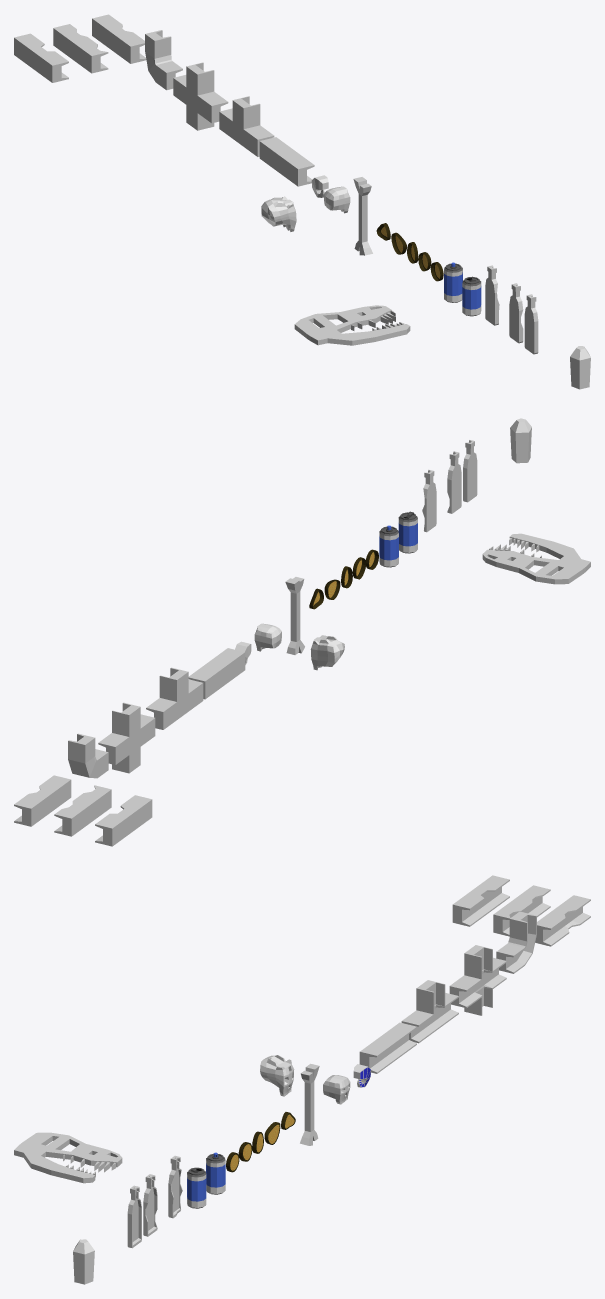
File: undergroundprops.fbx
3 renders of one model, top to bottom at view 1: azimuth 30°, elevation 25°; view 2: azimuth 150°, elevation 25°; view 3: azimuth 330°, elevation 25°, orthographic. The views are drawn at different scales.
Visible parts, largest first — view 1: Plane, Cube.007, Cube.006, Cube.005, Cube.009, Cube.011, Cube.010, Cube.008, Cube.012, Cube.003, Cylinder.007, Cube (+5 smaller); view 2: Plane, Cube.007, Cube.006, Cube.009, Cube.011, Cube.010, Cube.005, Cube.008, Cube.003, Cube.012, Cylinder.007, Cube (+5 smaller); view 3: Plane, Cube.007, Cube.006, Cube.011, Cube.008, Cube.005, Cube.009, Cube.010, Cube.003, Cube.012, Cylinder.007, Cube (+5 smaller).
Part boxes in pixels (<box>): Plane: <box>294,305,410,345</box>; Cube.007: <box>173,62,228,130</box>; Cube.006: <box>219,96,274,156</box>; Cube.005: <box>259,137,314,186</box>; Cube.009: <box>92,14,146,63</box>; Cube.011: <box>14,33,68,82</box>; Cube.010: <box>53,24,108,73</box>; Cube.008: <box>145,30,182,90</box>; Cube.012: <box>261,196,296,231</box>; Cube.003: <box>353,177,372,255</box>; Cylinder.007: <box>570,346,590,389</box>; Cube: <box>524,294,538,354</box>; Plane: <box>482,533,590,584</box>; Cube.007: <box>98,702,155,773</box>; Cube.006: <box>146,667,203,729</box>; Cube.009: <box>14,775,71,826</box>; Cube.011: <box>95,795,152,846</box>; Cube.010: <box>54,785,111,836</box>; Cube.005: <box>188,648,245,699</box>; Cube.008: <box>68,733,108,778</box>; Cube.003: <box>285,577,304,654</box>; Cube.012: <box>310,635,344,670</box>; Cylinder.007: <box>510,418,531,463</box>; Cube: <box>463,440,477,502</box>; Plane: <box>14,1132,122,1183</box>; Cube.007: <box>449,945,506,1015</box>; Cube.006: <box>401,980,458,1043</box>; Cube.011: <box>452,875,509,926</box>; Cube.008: <box>496,911,536,973</box>; Cube.005: <box>359,1022,416,1073</box>; Cube.009: <box>535,895,590,946</box>; Cube.010: <box>493,885,550,936</box>; Cube.003: <box>300,1063,319,1145</box>; Cube.012: <box>260,1055,294,1096</box>; Cylinder.007: <box>73,1239,94,1284</box>; Cube: <box>127,1185,141,1248</box>.
Size of the model in its own units: 2118 by 928 by 10083.
